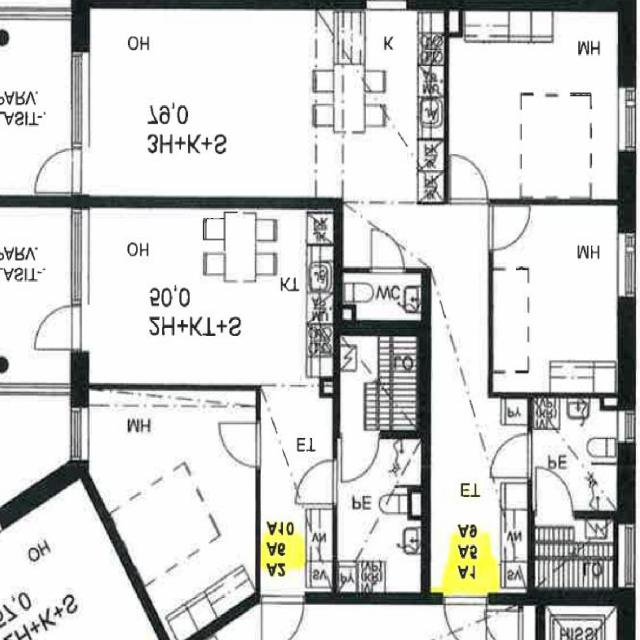door: (35, 148, 82, 193), (444, 596, 487, 640), (490, 434, 533, 478), (452, 154, 488, 203), (537, 467, 573, 516), (489, 207, 530, 250), (372, 227, 404, 273)
